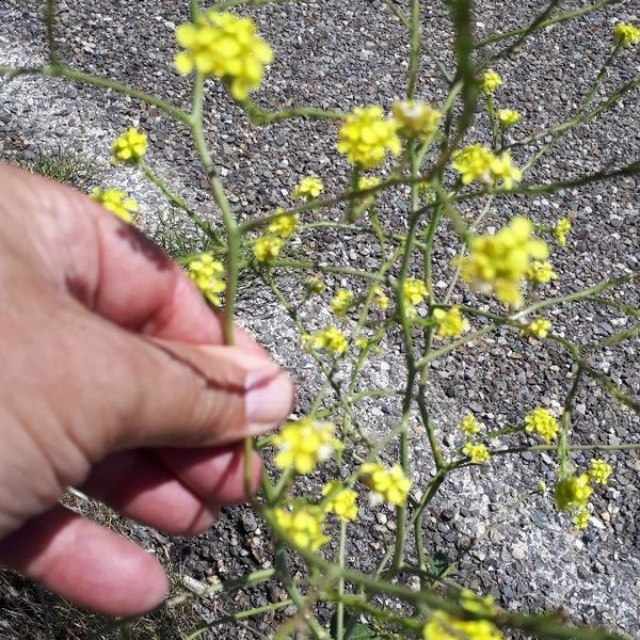obstacle: (141, 26, 572, 498)
